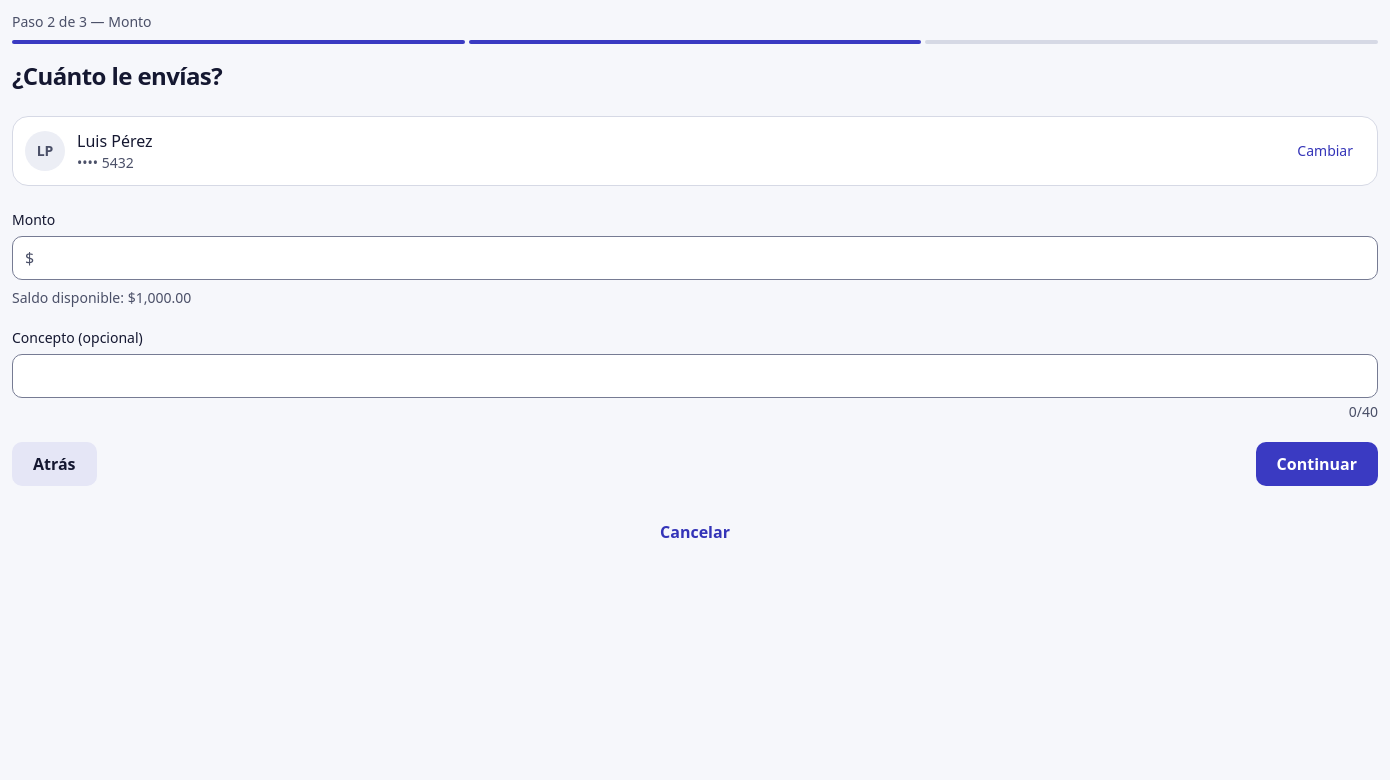
[TC-COMP-11] Amount step › [UIR-TX-10] the caret stays after the digit typed in the middle of a grouped value
The image size is (1390, 780).
Type "1234" into the field labelled "Monto".
click(704, 258); type("1234")  # box [42,238,1365,278]
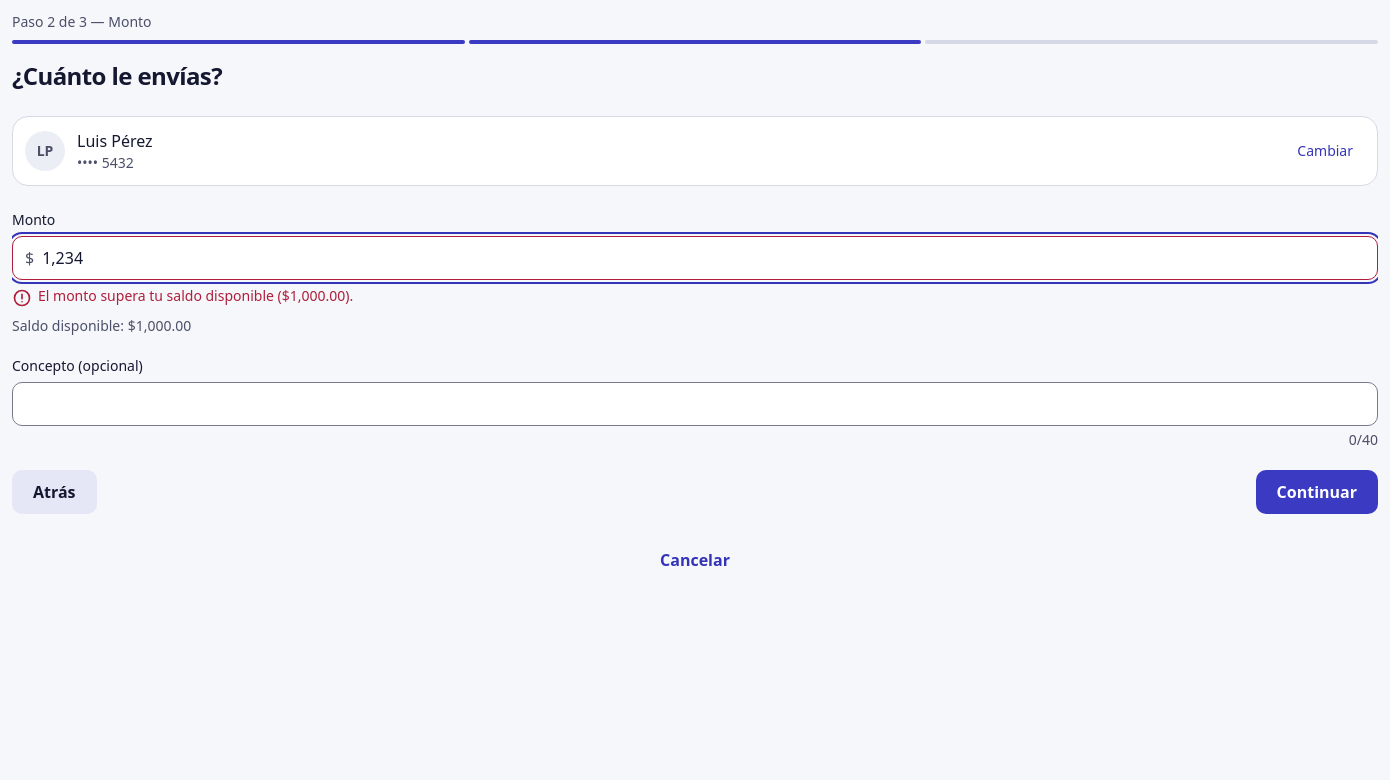
Expected: the field labelled "Monto" holds "1,234"
// Caret right after "1,": type 5 → "15,234" with the caret after the 5.
Type "5" into the field labelled "Monto".
click(704, 258); type("5")  # box [42,238,1365,278]
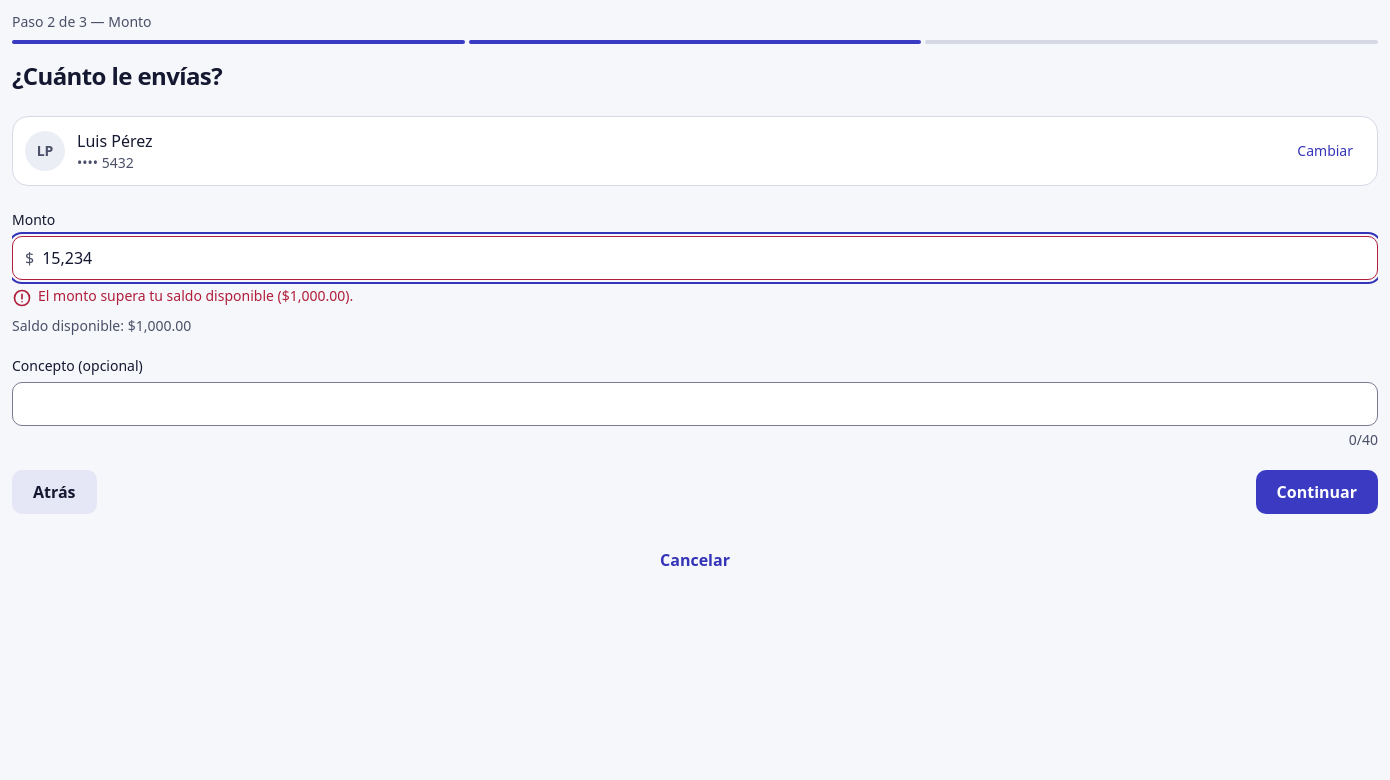
Expected: the field labelled "Monto" holds "15,234", [42,238,1365,278]
Press Backspace
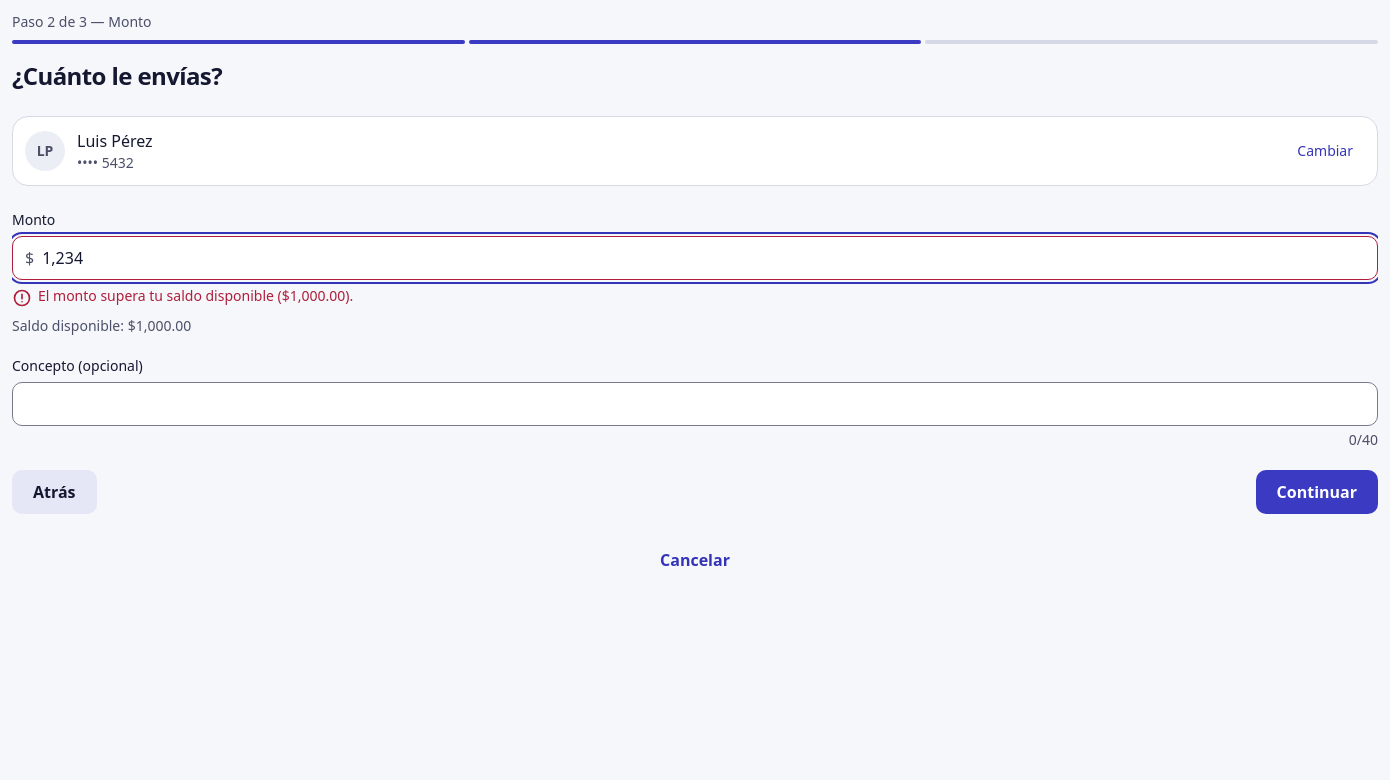
Expected: the field labelled "Monto" holds "1,234", [42,238,1365,278]
